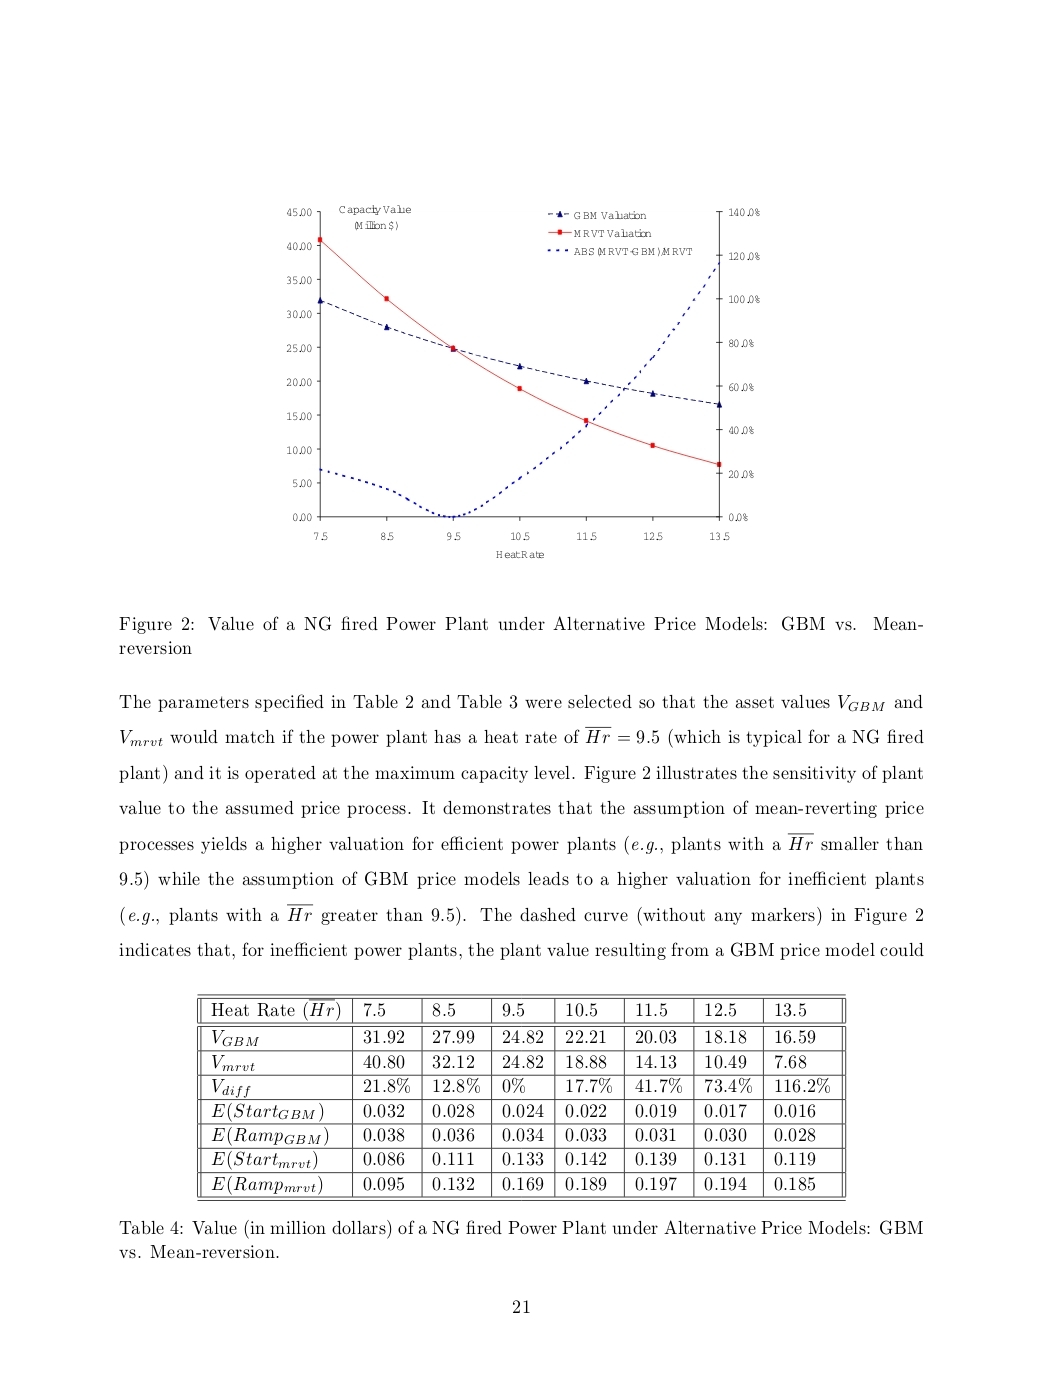Table: (197, 992, 846, 1201)
figure: (286, 205, 759, 558)
